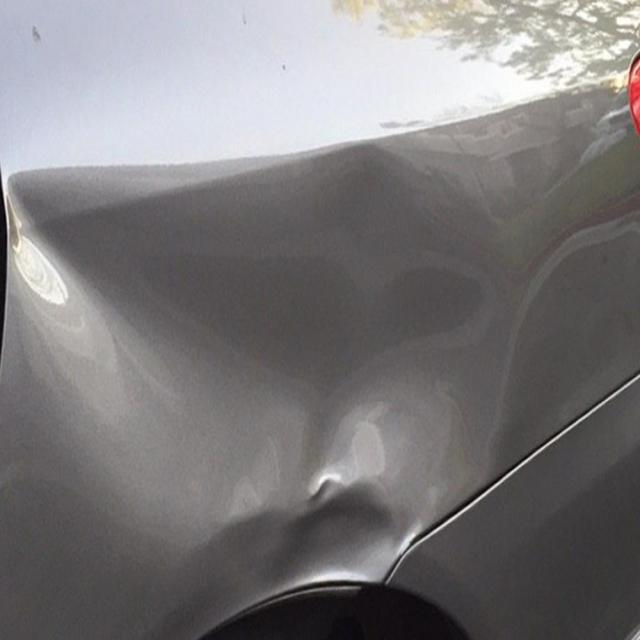dent: (2, 173, 430, 627)
